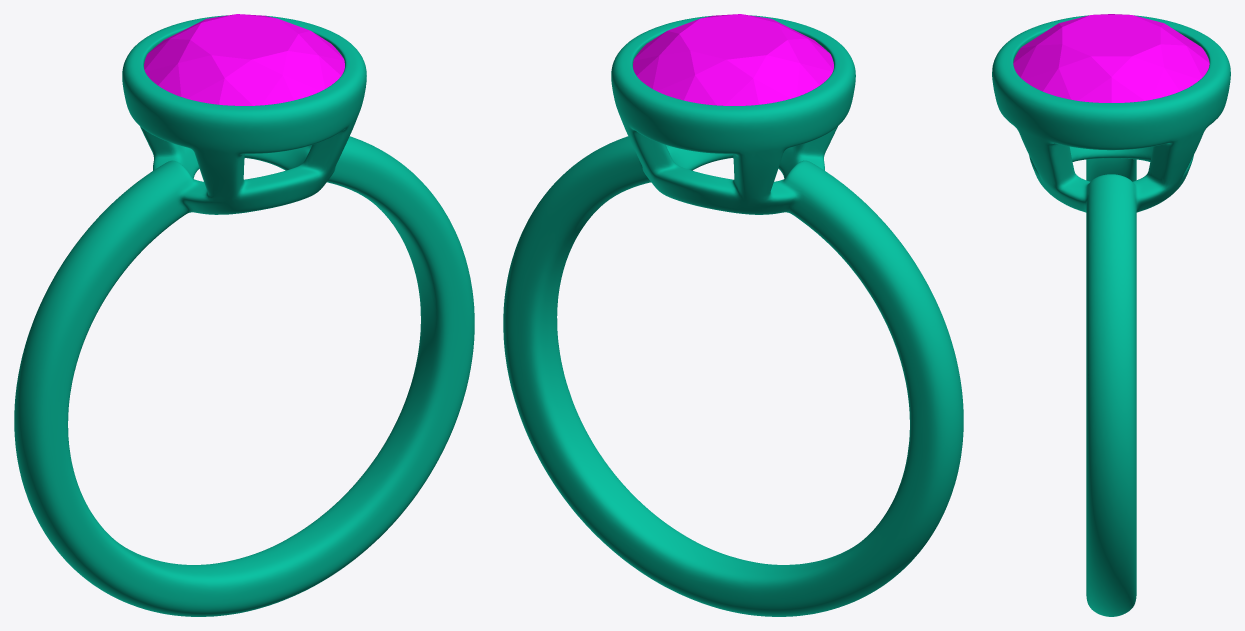
File: BE1798_RD_200ct_RENDER.glb
3 renders of one model, left to right at view 1: azimuth 30°, elevation 25°; view 2: azimuth 150°, elevation 25°; view 3: azimuth 270°, elevation 25°, orthographic. The views are drawn at different scales.
Parts seen in each view (by area): view 1: Metal 01, CS_Diamond_Round; view 2: Metal 01, CS_Diamond_Round; view 3: Metal 01, CS_Diamond_Round.
Part boxes in pixels (x1=…): Metal 01: x1=14, y1=15, x2=474, y2=616; CS_Diamond_Round: x1=144, y1=14, x2=344, y2=105; Metal 01: x1=503, y1=15, x2=963, y2=616; CS_Diamond_Round: x1=633, y1=14, x2=833, y2=105; Metal 01: x1=992, y1=15, x2=1230, y2=616; CS_Diamond_Round: x1=1013, y1=14, x2=1209, y2=102.
Bounding box in the file's own units: 20.29 × 24.52 × 9.52.
